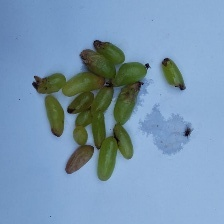grapes: (48, 28, 205, 217)
